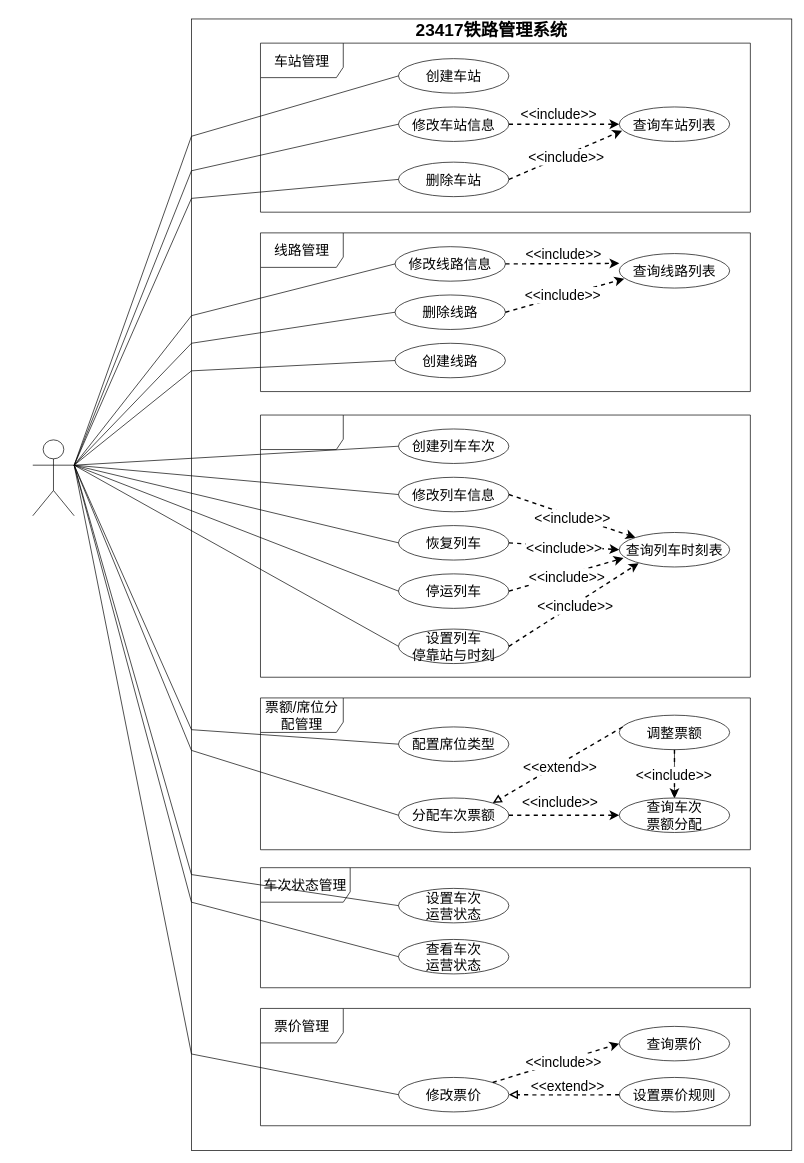
Some shapes in this 804 by 1163 pixel diagram are drawn without their labels. Each missing label, with the centre of its shape:
列车时刻表管理: the point at 505,545
票务运营人员: the point at 53,477
